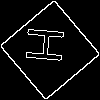H: (25, 25, 74, 65)
